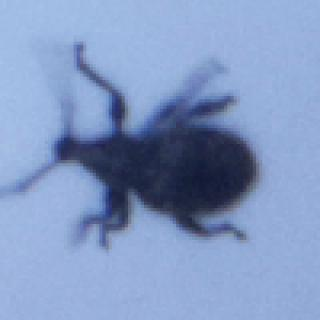bvw: (3, 40, 260, 248)
